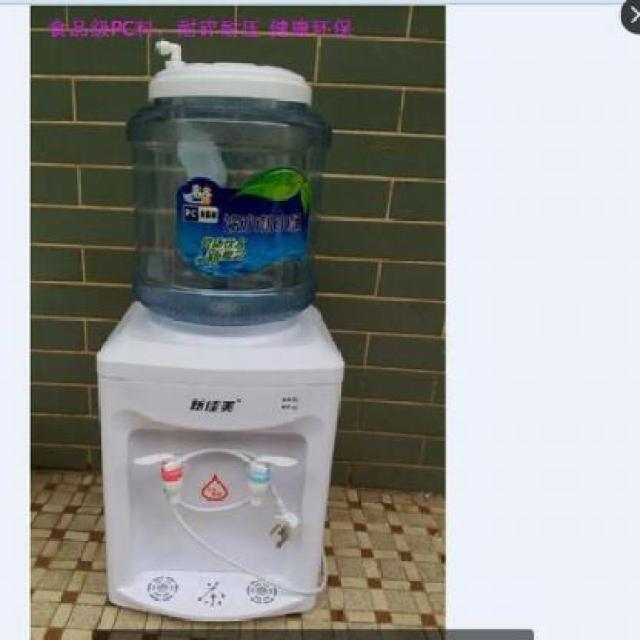coolerbottle: (123, 60, 329, 332)
